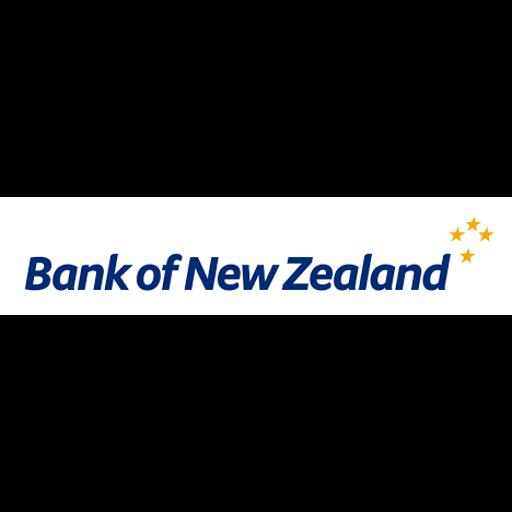Bank of New Zealand: (0, 197, 512, 315)
